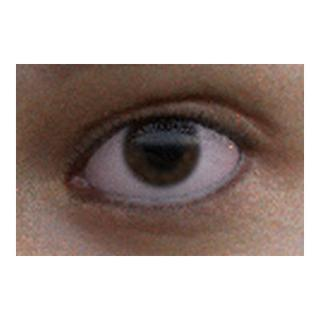pupil: (144, 131, 179, 166)
